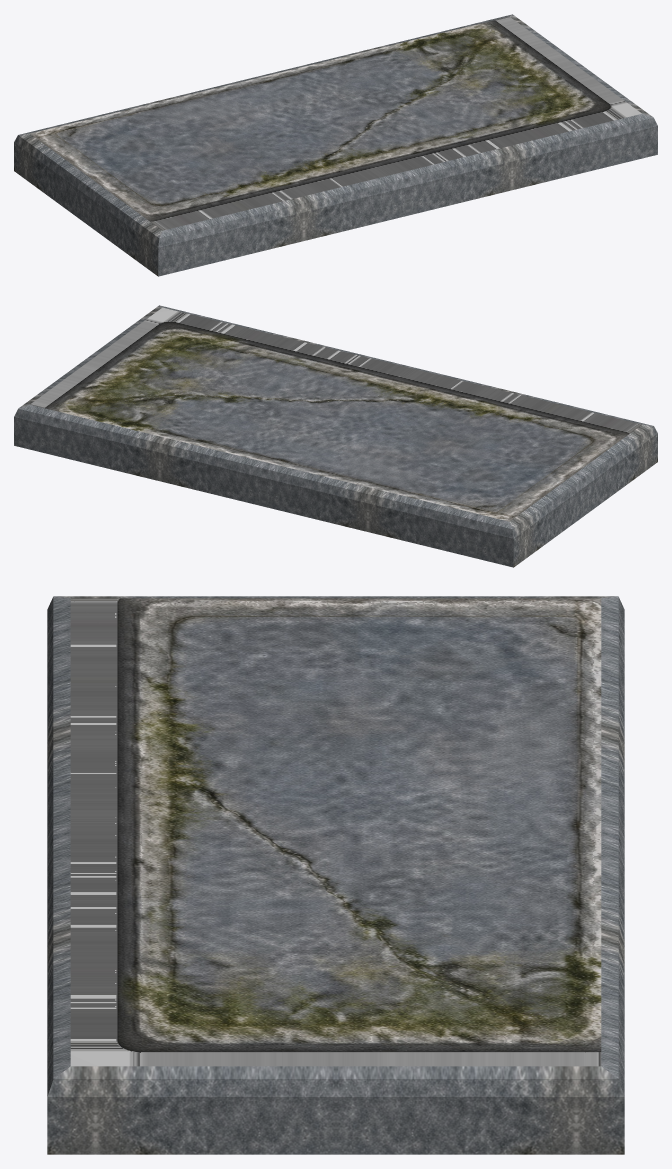
Rendered from paving_rect.glb.
3 views of the same model, one above another, from view 1: azimuth 30°, elevation 25°; view 2: azimuth 150°, elevation 25°; view 3: azimuth 270°, elevation 25° (orthographic). The views are drawn at different scales.
Parts seen in each view (by area): view 1: paving_rect; view 2: paving_rect; view 3: paving_rect.
Part boxes in pixels (bbox=[...]): paving_rect: bbox=[14, 14, 657, 276]; paving_rect: bbox=[14, 305, 657, 567]; paving_rect: bbox=[47, 596, 624, 1154].
Bounding box in the file's own units: 2 × 0.15 × 1.
2 materials, 2 textured.
